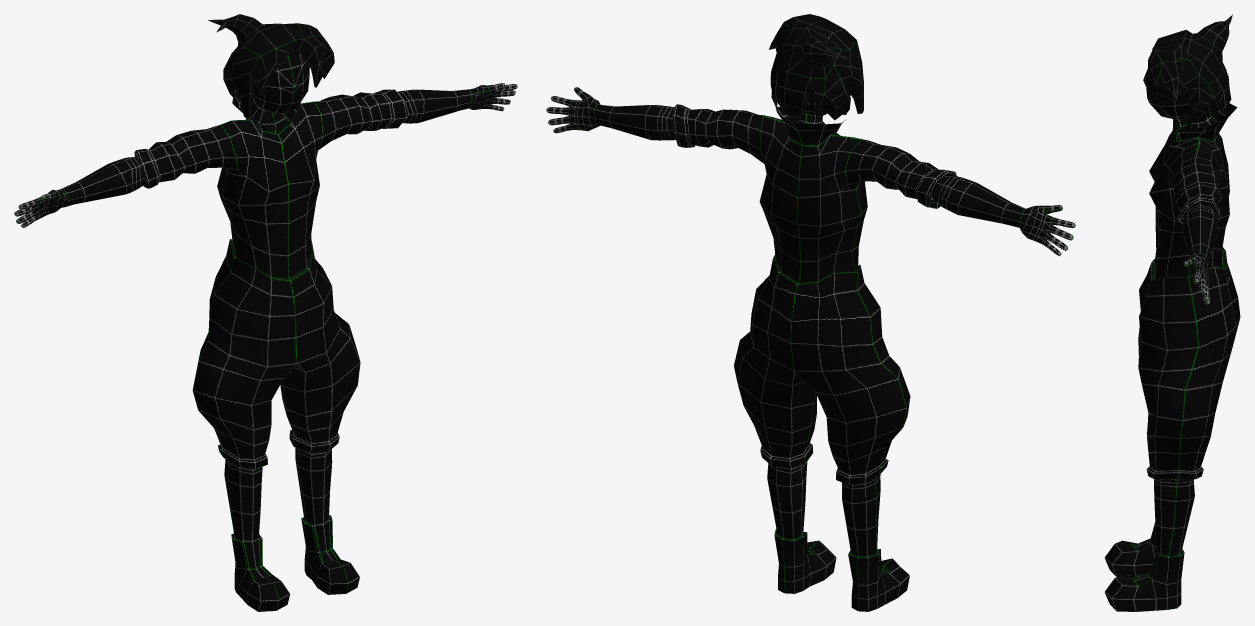
File: CHR_Lucy_Model_V20.FBX
3 renders of one model, left to right at view 1: azimuth 30°, elevation 25°; view 2: azimuth 150°, elevation 25°; view 3: azimuth 270°, elevation 25°, orthographic. The views are drawn at different scales.
Visible parts, largest first — view 1: Mesh_Lucy; view 2: Mesh_Lucy; view 3: Mesh_Lucy.
Part boxes in pixels (left/top/right/bottom): Mesh_Lucy: left=14, top=14, right=517, bottom=611; Mesh_Lucy: left=546, top=14, right=1075, bottom=611; Mesh_Lucy: left=1104, top=14, right=1240, bottom=611.
Bounding box in the file's own units: 54.5 × 57.46 × 12.73.
2 materials, 2 textured.
